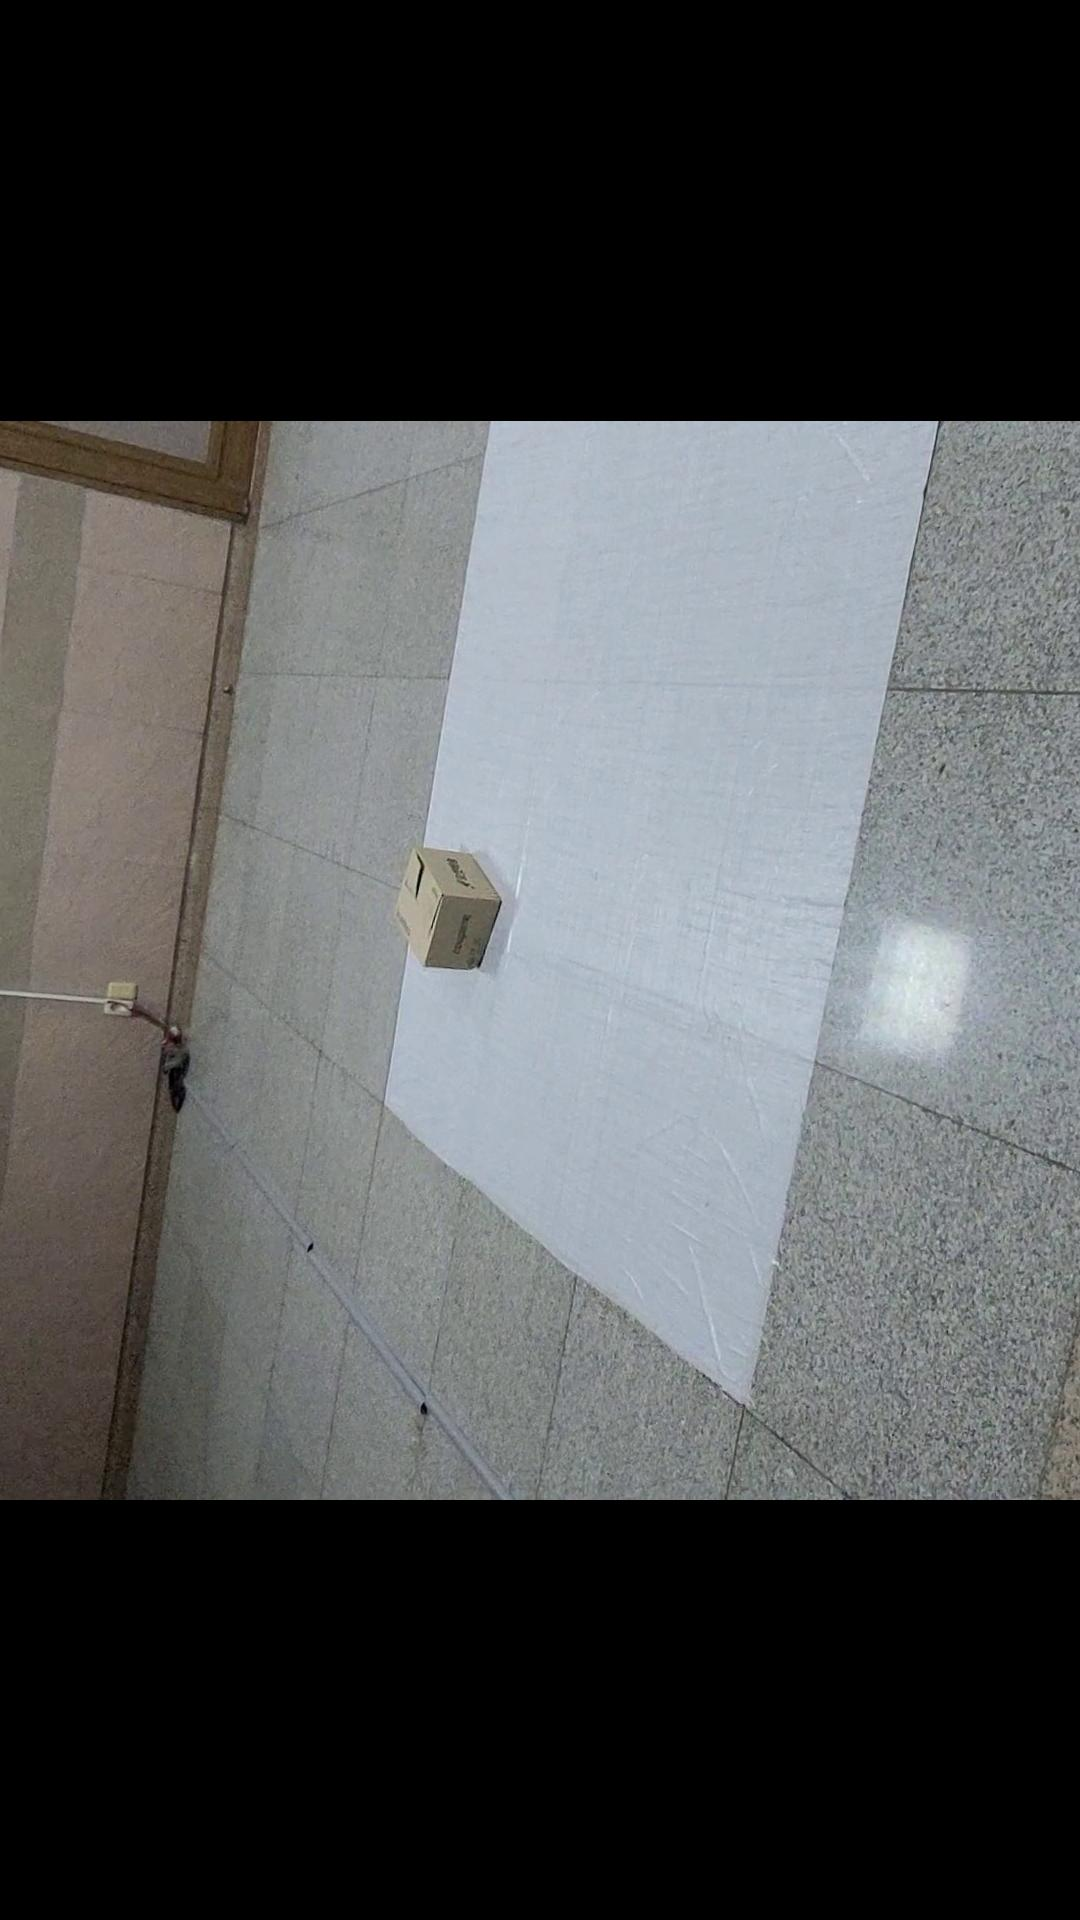Box: (371, 811, 555, 997)
